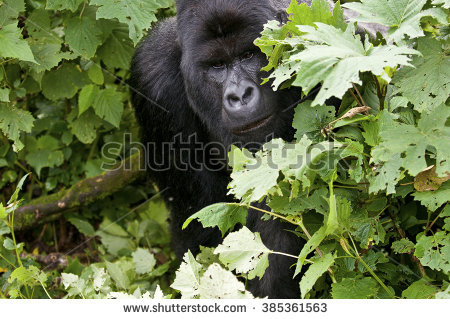Goriila: (126, 6, 341, 293)
